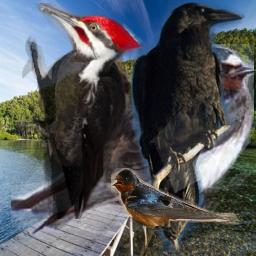Crow: (131, 1, 245, 256)
Swallow: (11, 44, 254, 239), (111, 168, 239, 226)
Woodpecker: (17, 3, 147, 219)
